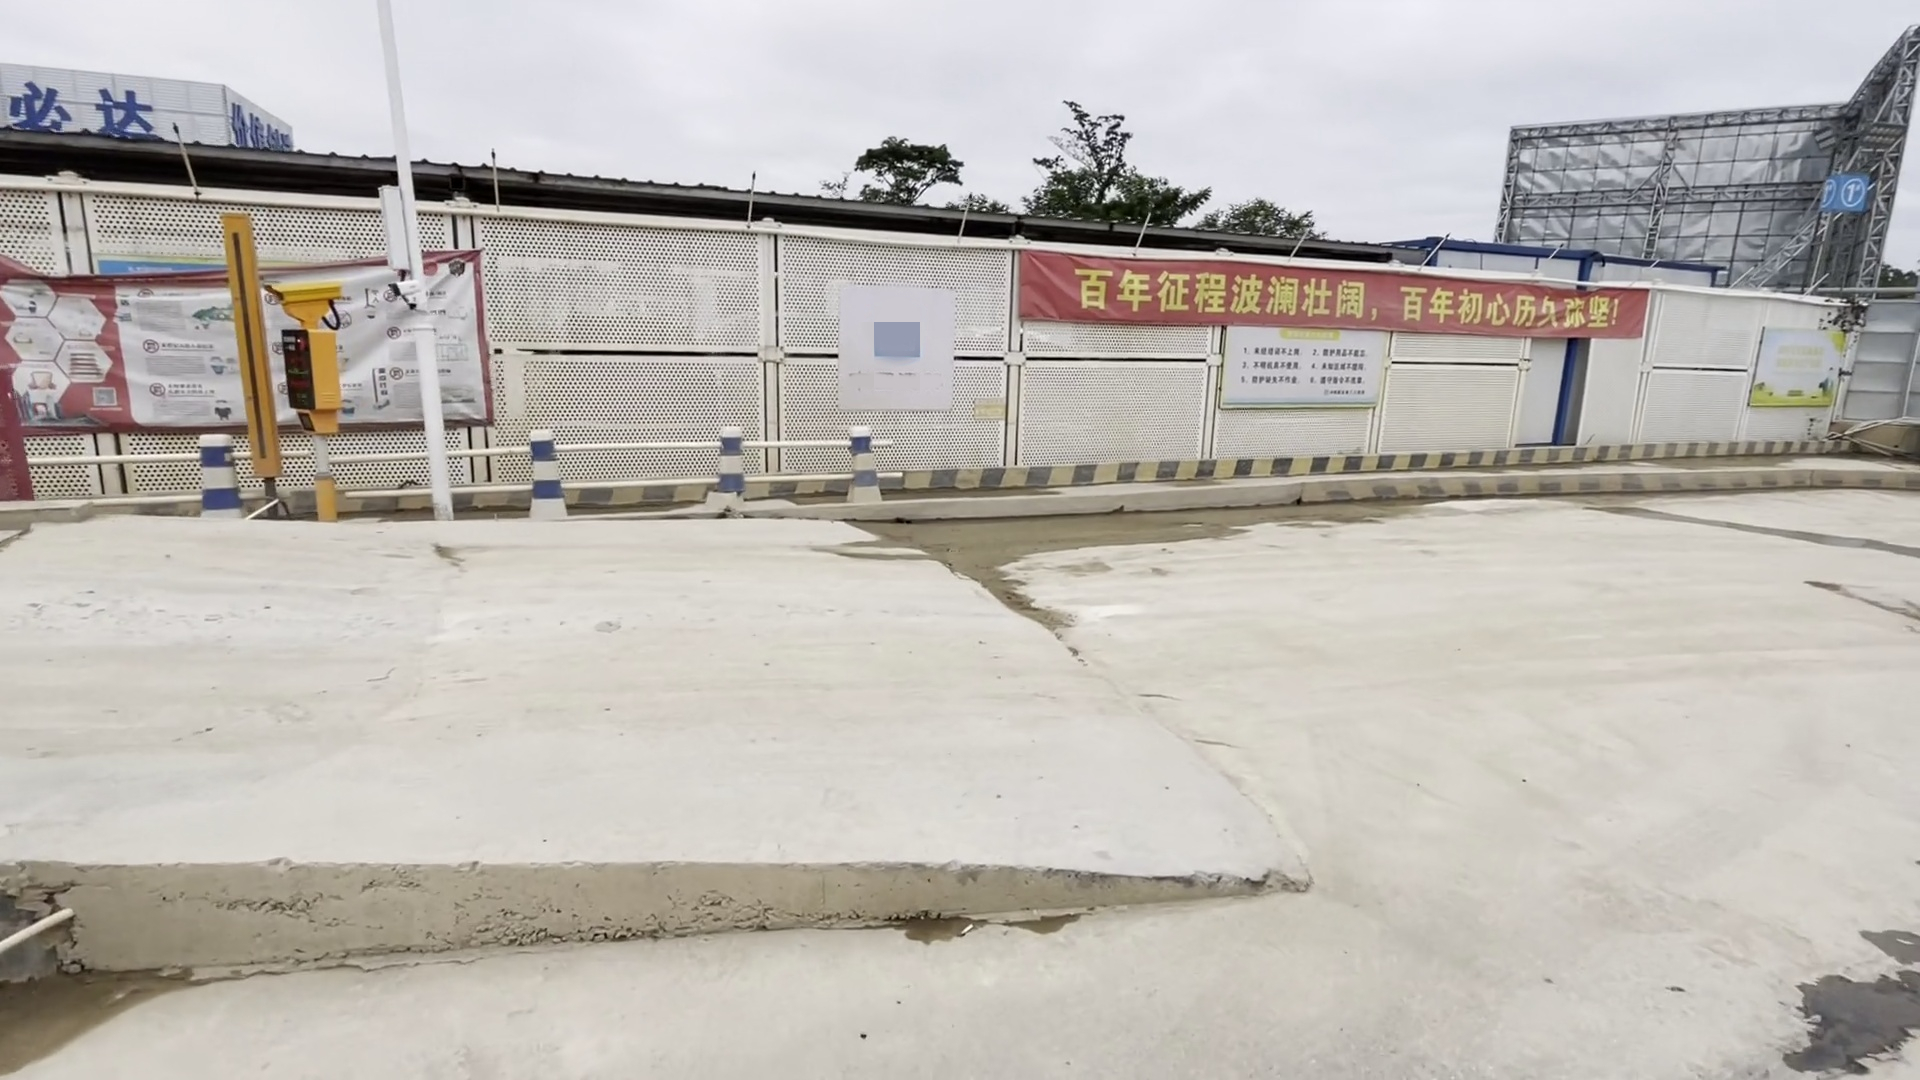slogan: (1052, 258, 1626, 339), (1225, 316, 1381, 409)
